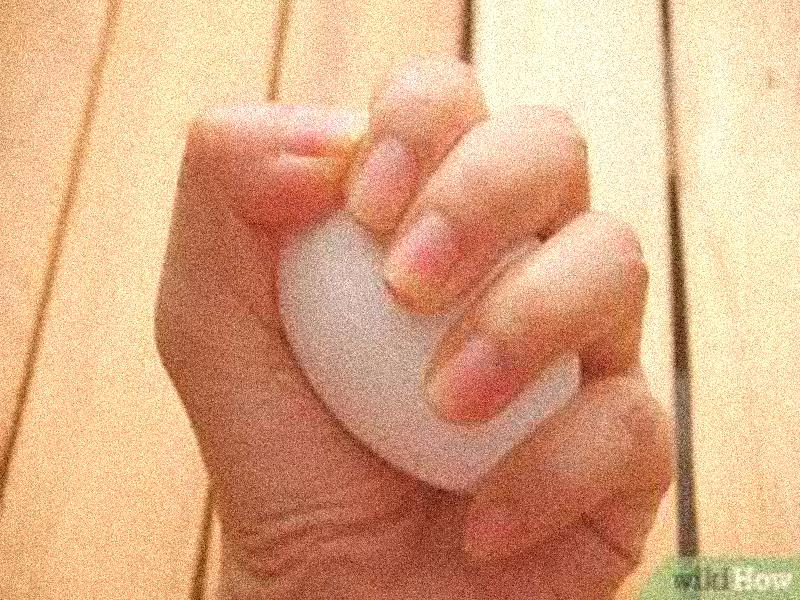Eggs: (276, 177, 585, 492)
